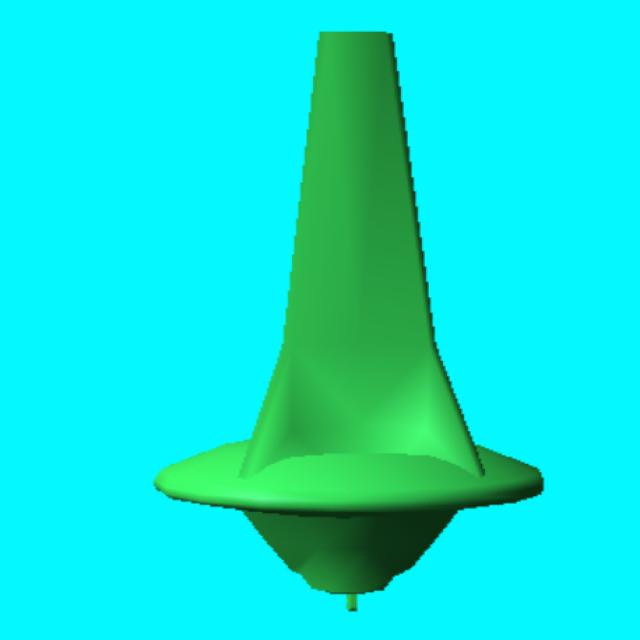GreenBuoy: (154, 32, 543, 609)
